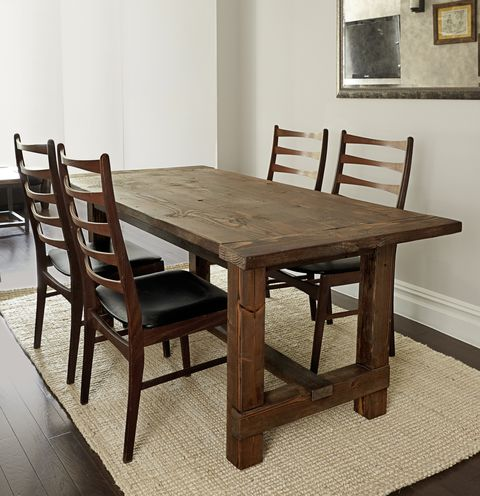chair: (54, 140, 244, 469), (9, 128, 172, 387), (318, 126, 418, 359), (236, 123, 333, 323)
table: (44, 163, 468, 475)
